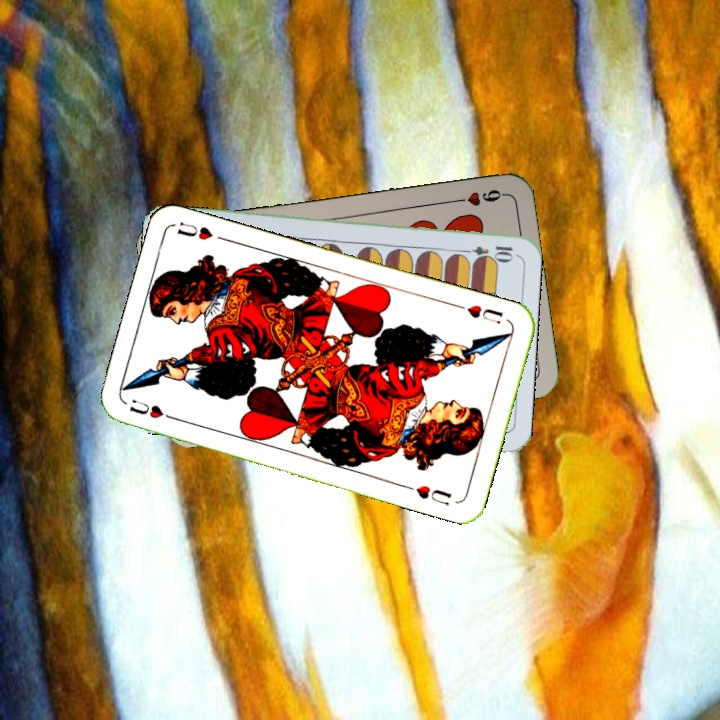E10: (457, 241, 516, 260)
H9: (448, 185, 507, 209)
HU: (125, 395, 181, 424), (453, 300, 506, 326)
